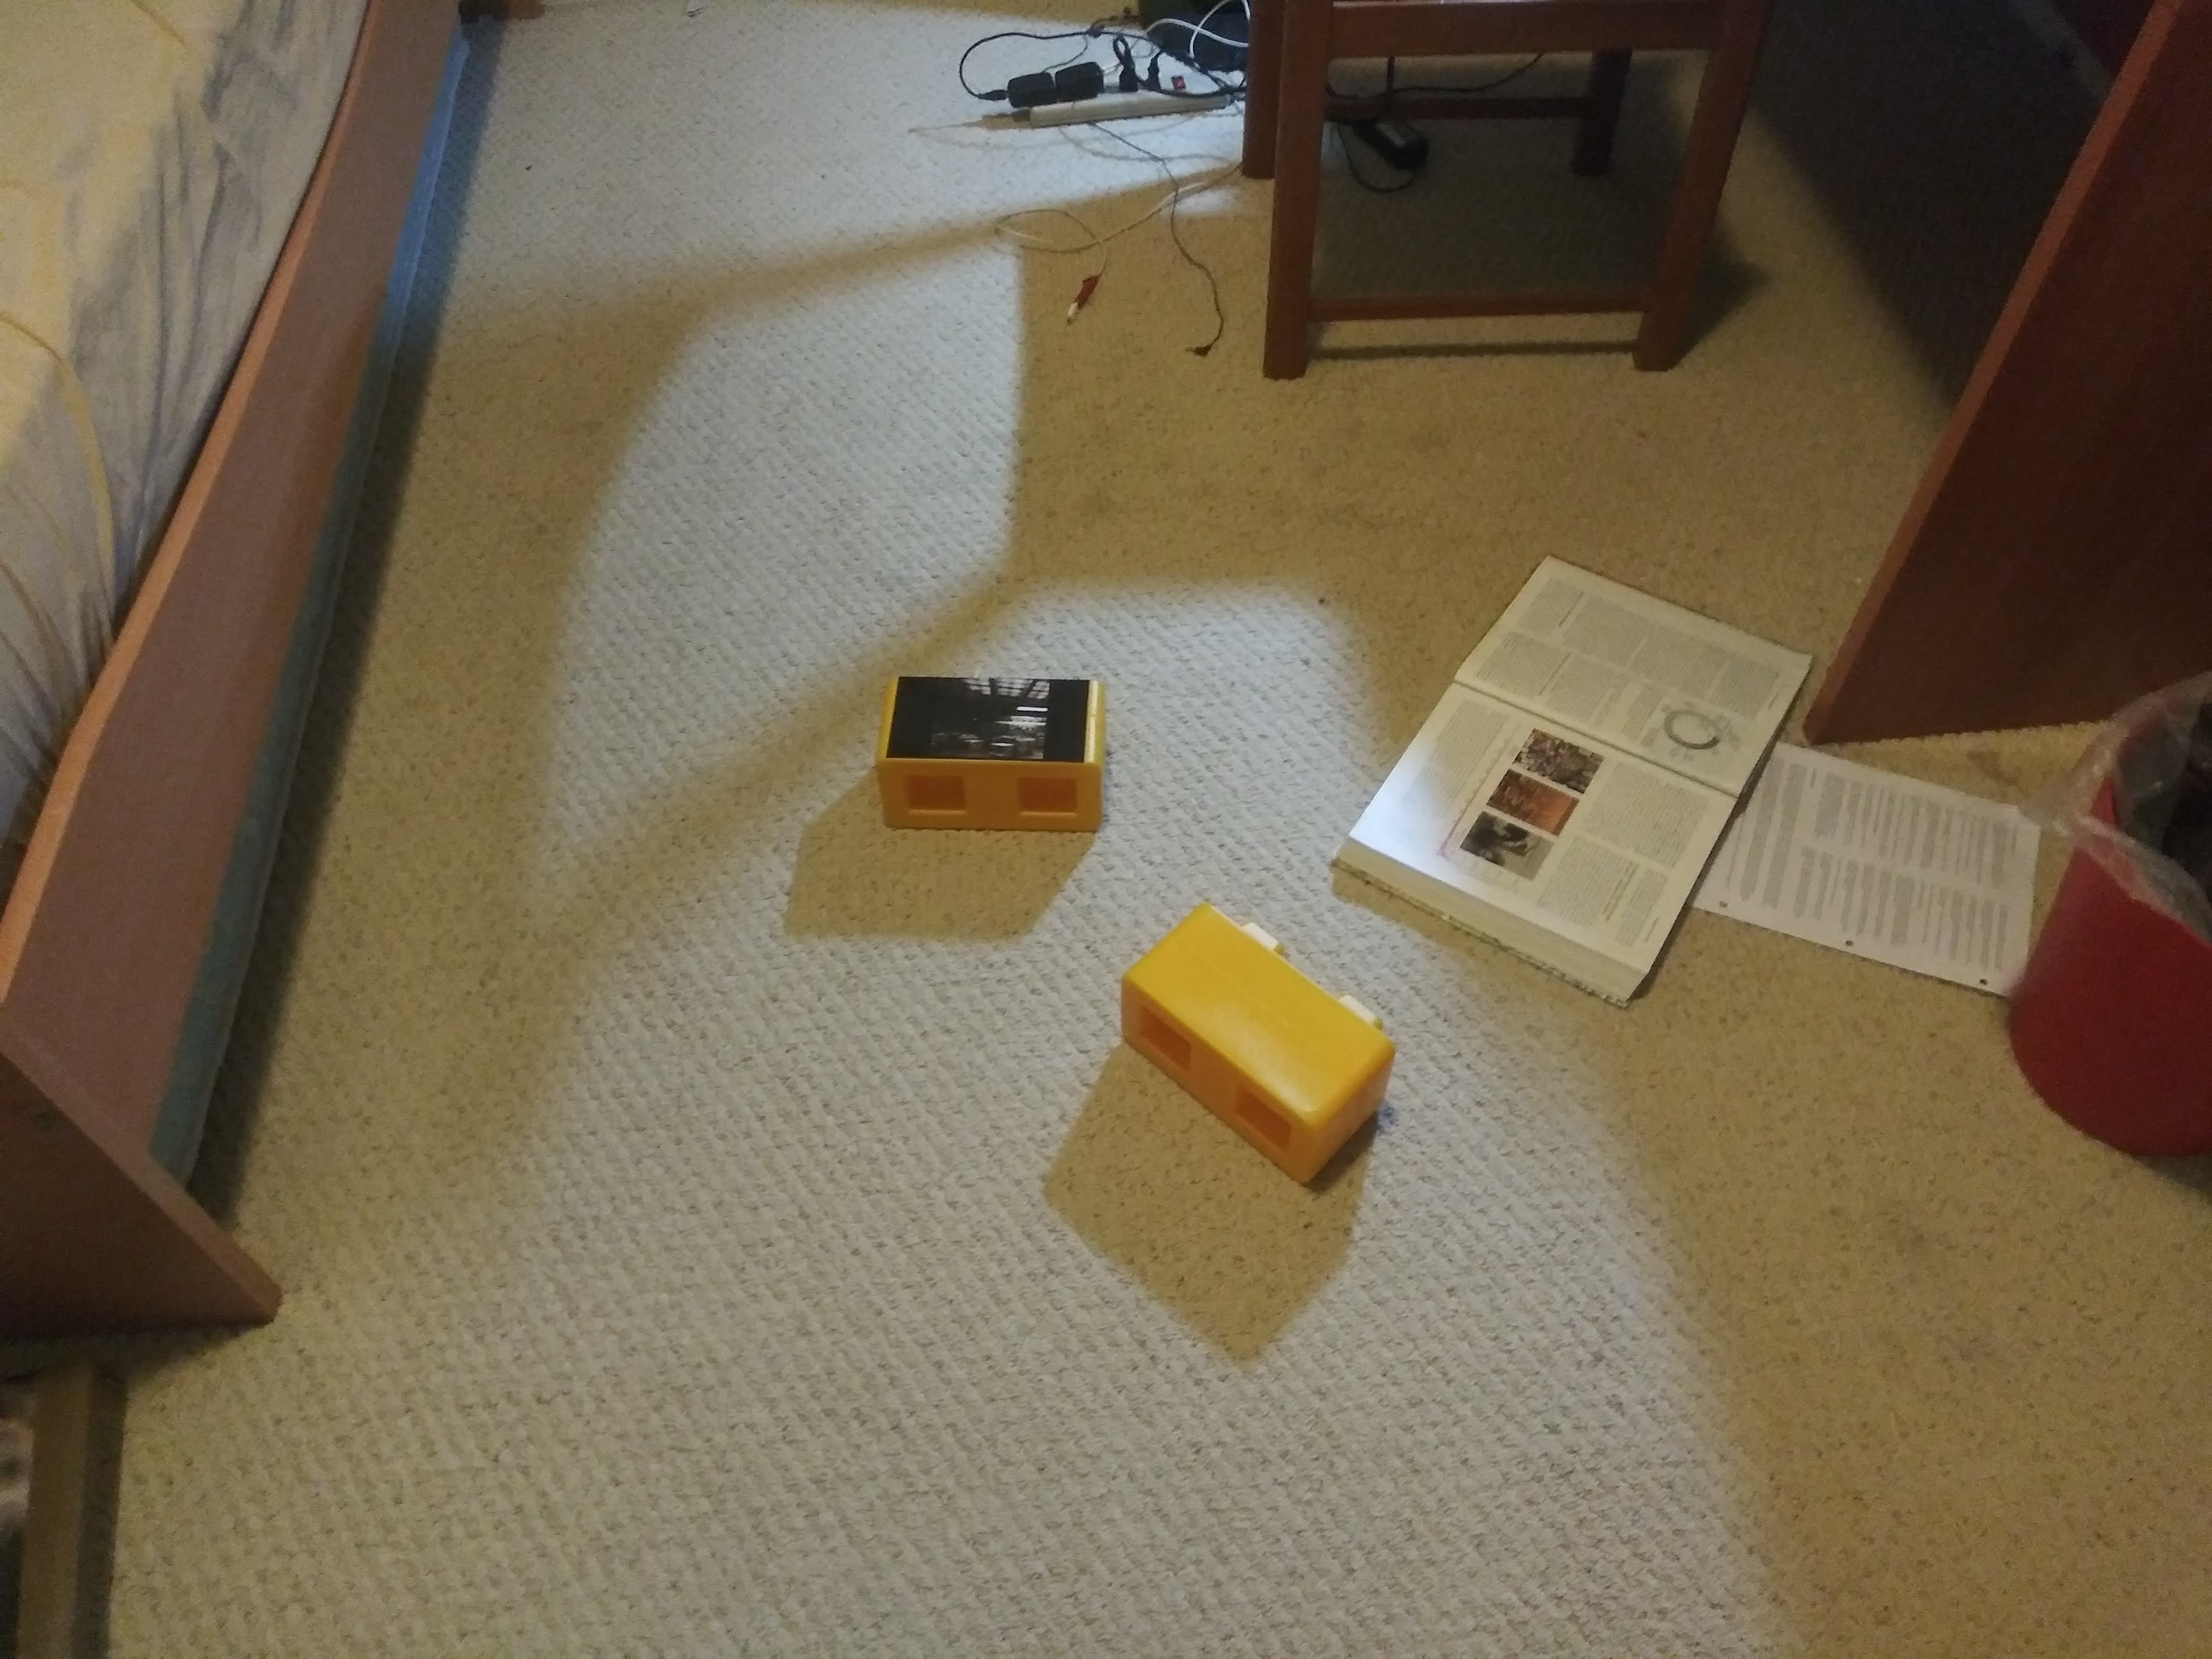skystone: (878, 676, 1109, 833)
stone: (1125, 917, 1378, 1155)
